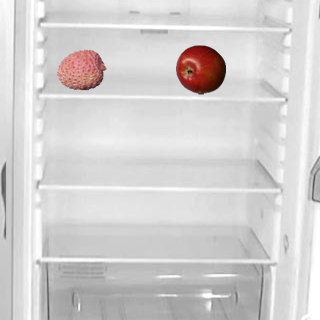Apple Braeburn: (175, 44, 225, 94)
Lychee: (56, 44, 106, 94)
